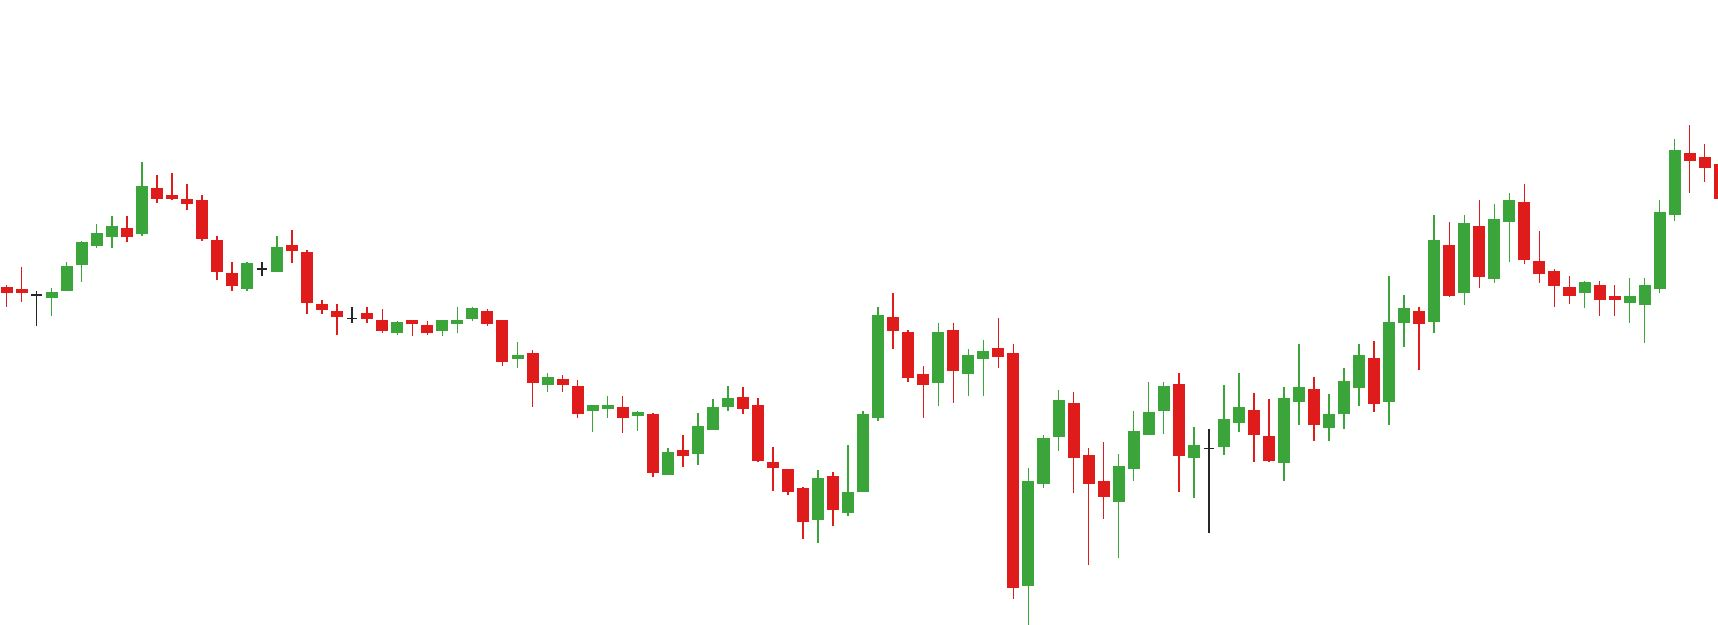buy: (794, 409, 1036, 625)
